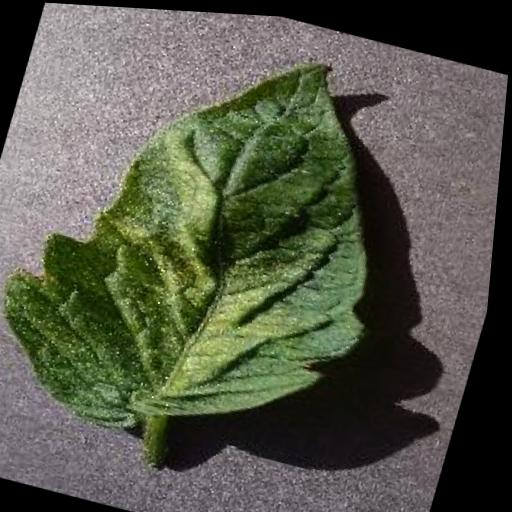Spider Mites: (0, 1, 442, 485)
